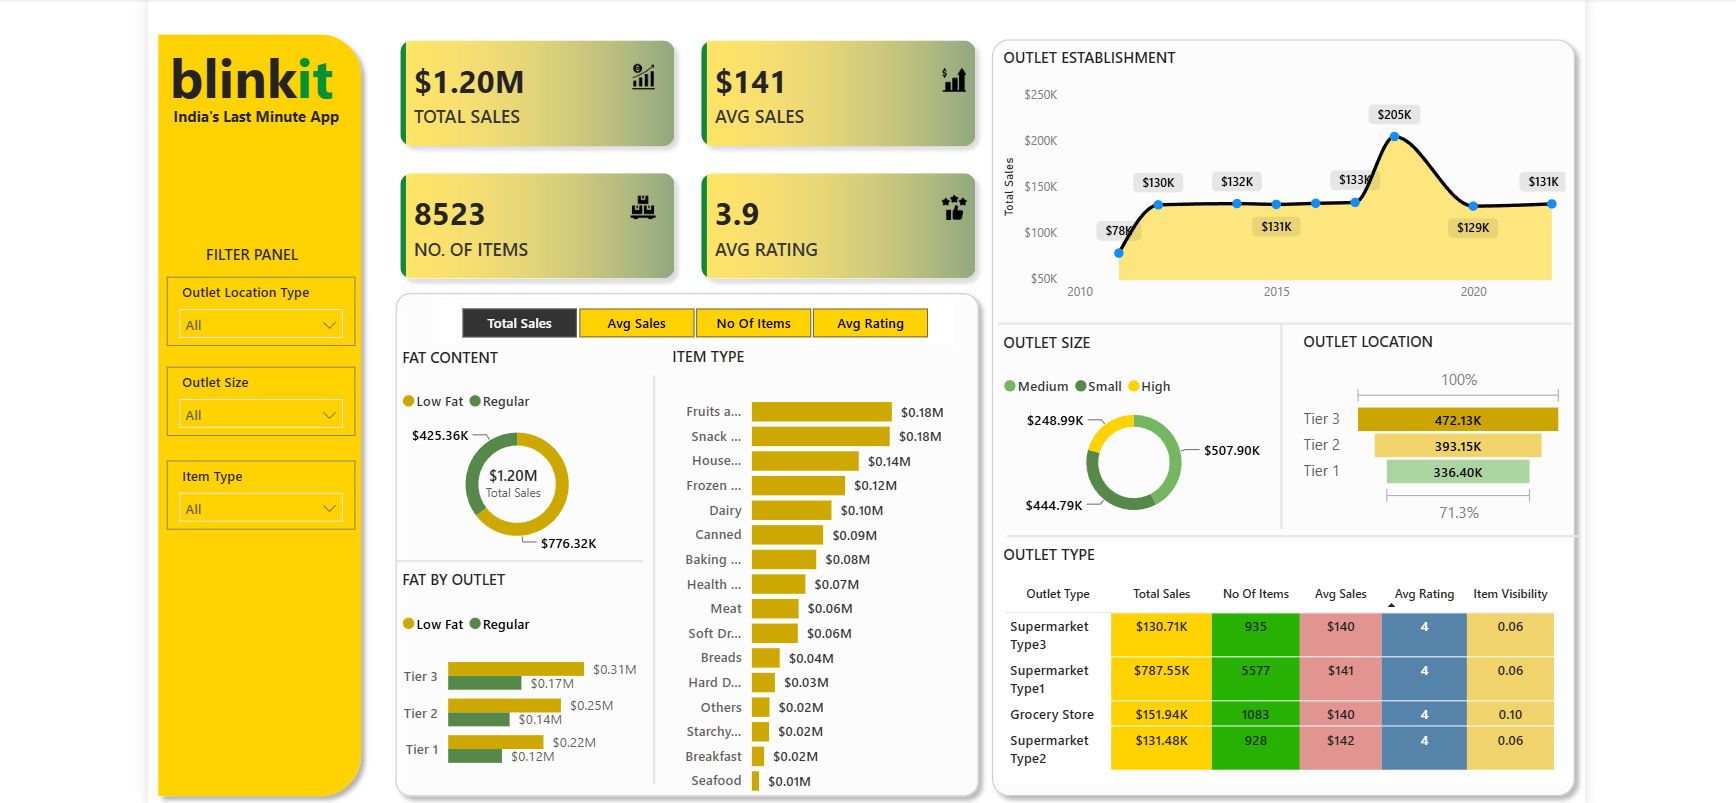

What the dashboard file says about the page in this screenshot:
{"tool":"powerbi","page":{"name":"Page 1","canvas":[1280,720],"ordinal":0},"visuals":[{"type":"shape","box":[0,23.3,198.8,696.5],"z":0},{"type":"textbox","box":[0,32.6,184.6,74.8],"z":1000},{"type":"textbox","box":[18.1,91.7,166.5,30.2],"z":2000},{"type":"cardVisual","fields":{"Data":["BlinkIT Grocery Data.Total Sales","BlinkIT Grocery Data.Avg Sales","BlinkIT Grocery Data.No Of Items","BlinkIT Grocery Data.Avg Rating"]},"box":[195.8,8.4,570,270],"z":3000},{"type":"image","box":[429.5,50.7,22.9,37.4],"z":4000},{"type":"image","box":[707,54.3,22,37],"z":5000},{"type":"image","box":[429.5,167.7,22,37],"z":6000},{"type":"image","box":[707,167.7,22,37],"z":7000},{"type":"shape","box":[211.6,253.5,537.2,466.3],"z":8000},{"type":"donutChart","title":"FAT CONTENT","fields":{"Y":["BlinkIT Grocery Data.Total Sales"],"Category":["BlinkIT Grocery Data.Item Fat Content"]},"box":[222,310.1,214.7,188.2],"z":9000},{"type":"slicer","fields":{"Values":["Metrics.Metrics"]},"box":[253.4,269,465,40],"z":10000},{"type":"cardVisual","fields":{"Data":["BlinkIT Grocery Data.Total Sales"]},"box":[277.9,396.5,94.1,70],"z":11000},{"type":"clusteredBarChart","title":"FAT BY OUTLET","fields":{"Y":["BlinkIT Grocery Data.Total Sales"],"Category":["BlinkIT Grocery Data.Outlet Location Type"],"Series":["BlinkIT Grocery Data.Item Fat Content"]},"box":[222,509.1,219.6,191.8],"z":12000},{"type":"shape","box":[222,494.6,219.6,14.5],"z":13000},{"type":"shape","box":[436.7,336.6,29,364.3],"z":14000},{"type":"barChart","title":"ITEM TYPE","fields":{"Y":["BlinkIT Grocery Data.Total Sales"],"Category":["BlinkIT Grocery Data.Item Type"]},"box":[461.6,309.3,252.3,410.5],"z":15000},{"type":"shape","box":[743,27.9,537.2,691.9],"z":16000},{"type":"lineChart","title":"OUTLET ESTABLISHMENT","fields":{"Category":["BlinkIT Grocery Data.Outlet Establishment Year"],"Y":["BlinkIT Grocery Data.Total Sales"]},"box":[757,43,510.5,234.9],"z":17000},{"type":"shape","box":[756.4,282.3,511.5,14.5],"z":18000},{"type":"donutChart","title":"OUTLET SIZE ","fields":{"Y":["BlinkIT Grocery Data.Total Sales"],"Category":["BlinkIT Grocery Data.Outlet Size"]},"box":[756.4,296.8,242.5,176.1],"z":19000},{"type":"shape","box":[998.9,290.8,21.7,182.2],"z":20000},{"type":"funnel","title":"OUTLET LOCATION","fields":{"Y":["Sum(BlinkIT Grocery Data.Sales)"],"Category":["BlinkIT Grocery Data.Outlet Location Type"]},"box":[1024.3,295.6,242,176],"z":21000},{"type":"shape","box":[764.9,471.7,511.5,14.5],"z":22000},{"type":"tableEx","title":"OUTLET TYPE","fields":{"Values":["BlinkIT Grocery Data.Outlet Type","BlinkIT Grocery Data.Total Sales","BlinkIT Grocery Data.No Of Items","BlinkIT Grocery Data.Avg Sales","BlinkIT Grocery Data.Avg Rating","Avg(BlinkIT Grocery Data.Item Visibility)"]},"box":[756.4,486.2,511.5,214.7],"z":23000},{"type":"slicer","fields":{"Values":["BlinkIT Grocery Data.Outlet Location Type"]},"box":[16.9,248.5,167.7,61.5],"z":23001},{"type":"slicer","fields":{"Values":["BlinkIT Grocery Data.Outlet Size"]},"box":[16.9,328.2,167.7,61.5],"z":23002},{"type":"slicer","fields":{"Values":["BlinkIT Grocery Data.Item Type"]},"box":[16.9,411.4,167.7,61.5],"z":23003},{"type":"textbox","box":[47.1,213.5,108.6,35],"z":23004}]}

Visuals, with their boxes on the page's 1280x720 design canvas (x1, y1, x2, y2). These are canvas units, not pixel positions in the 1736x803 screenshot, which may show the page scaled, cropped or inside an application window:
shape: (x1=0, y1=23, x2=199, y2=720)
textbox: (x1=0, y1=33, x2=185, y2=107)
textbox: (x1=18, y1=92, x2=185, y2=122)
cardVisual - BlinkIT Grocery Data.Total Sales x BlinkIT Grocery Data.Avg Sales: (x1=196, y1=8, x2=766, y2=278)
image: (x1=430, y1=51, x2=452, y2=88)
image: (x1=707, y1=54, x2=729, y2=91)
image: (x1=430, y1=168, x2=452, y2=205)
image: (x1=707, y1=168, x2=729, y2=205)
shape: (x1=212, y1=254, x2=749, y2=720)
"FAT CONTENT" donutChart: (x1=222, y1=310, x2=437, y2=498)
slicer - Metrics.Metrics: (x1=253, y1=269, x2=718, y2=309)
cardVisual - BlinkIT Grocery Data.Total Sales: (x1=278, y1=396, x2=372, y2=466)
"FAT BY OUTLET" clusteredBarChart: (x1=222, y1=509, x2=442, y2=701)
shape: (x1=222, y1=495, x2=442, y2=509)
shape: (x1=437, y1=337, x2=466, y2=701)
"ITEM TYPE" barChart: (x1=462, y1=309, x2=714, y2=720)
shape: (x1=743, y1=28, x2=1280, y2=720)
"OUTLET ESTABLISHMENT" lineChart: (x1=757, y1=43, x2=1268, y2=278)
shape: (x1=756, y1=282, x2=1268, y2=297)
"OUTLET SIZE " donutChart: (x1=756, y1=297, x2=999, y2=473)
shape: (x1=999, y1=291, x2=1021, y2=473)
"OUTLET LOCATION" funnel: (x1=1024, y1=296, x2=1266, y2=472)
shape: (x1=765, y1=472, x2=1276, y2=486)
"OUTLET TYPE" tableEx: (x1=756, y1=486, x2=1268, y2=701)
slicer - BlinkIT Grocery Data.Outlet Location Type: (x1=17, y1=248, x2=185, y2=310)
slicer - BlinkIT Grocery Data.Outlet Size: (x1=17, y1=328, x2=185, y2=390)
slicer - BlinkIT Grocery Data.Item Type: (x1=17, y1=411, x2=185, y2=473)
textbox: (x1=47, y1=214, x2=156, y2=248)
